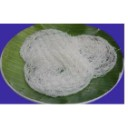idiyappam: (21, 30, 117, 93)
